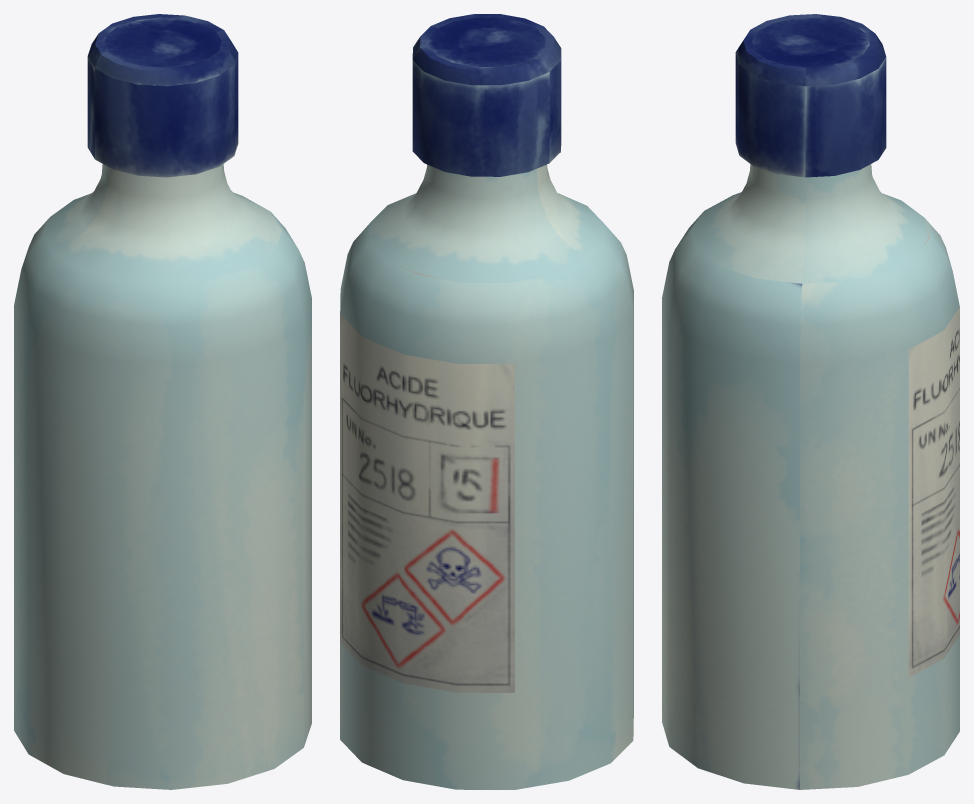
The model's file is bouteille3.fbx.
3 views of the same model, side by side, from view 1: azimuth 30°, elevation 25°; view 2: azimuth 150°, elevation 25°; view 3: azimuth 270°, elevation 25° (orthographic).
Visible parts, largest first — view 1: TAG_bouteille2.001; view 2: TAG_bouteille2.001; view 3: TAG_bouteille2.001.
Part boxes in pixels (box(x1,y1,x2,y2)): TAG_bouteille2.001: box(14, 14, 311, 789); TAG_bouteille2.001: box(340, 14, 633, 789); TAG_bouteille2.001: box(662, 14, 959, 789).
Size of the model in its own units: 0.1381 by 0.1381 by 0.3503.
